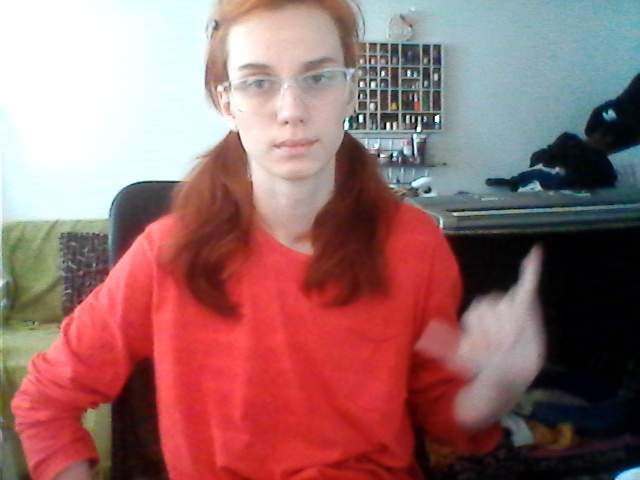kto: (411, 243, 557, 387)
